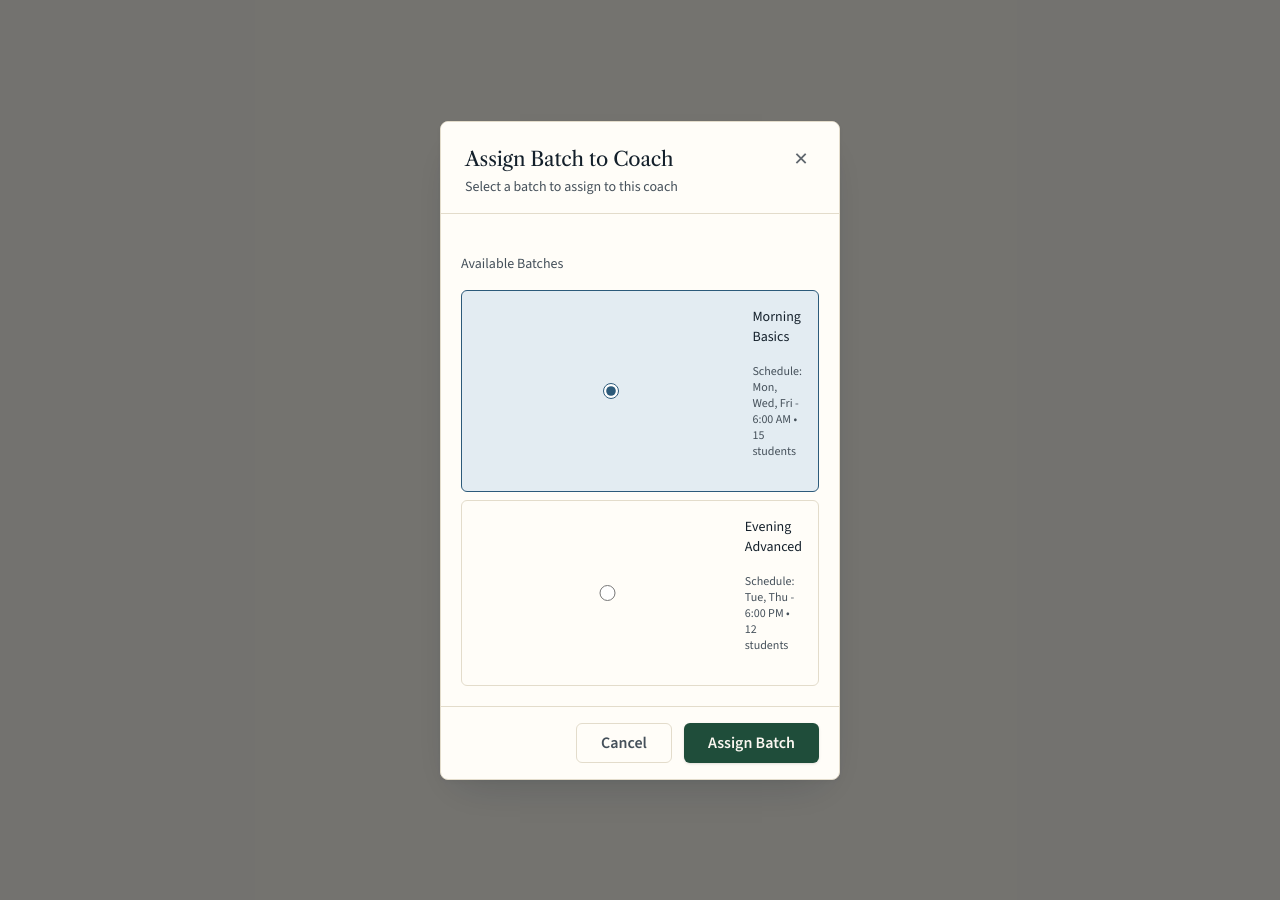
Test: AddBatchModal › should handle 409 conflict error for already assigned batch
Click the button "Assign Batch".
click(751, 742)  # box [684,722,819,762]
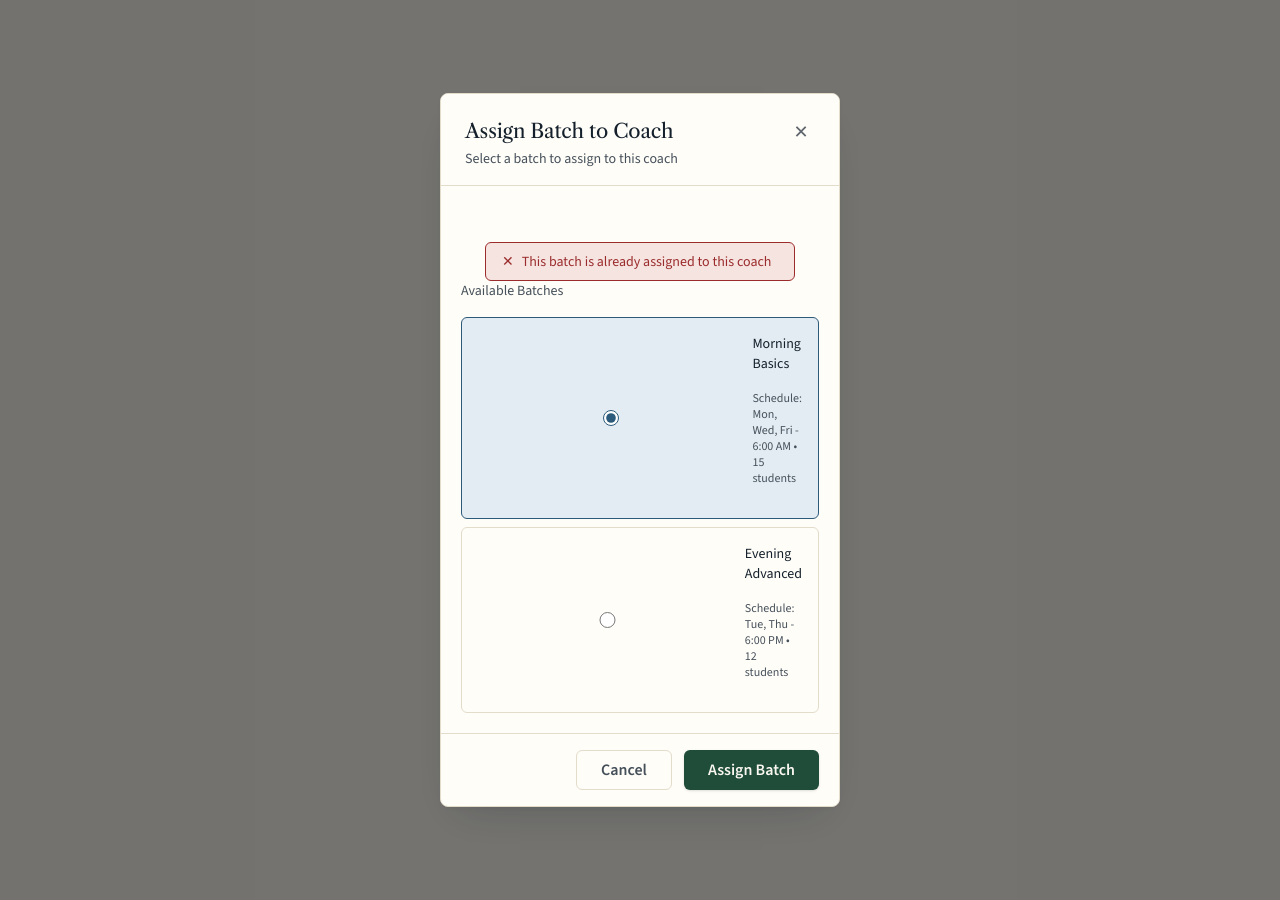
expect the text "This batch is already assigned to this coach" is shown: met, box [485,242,795,281]
